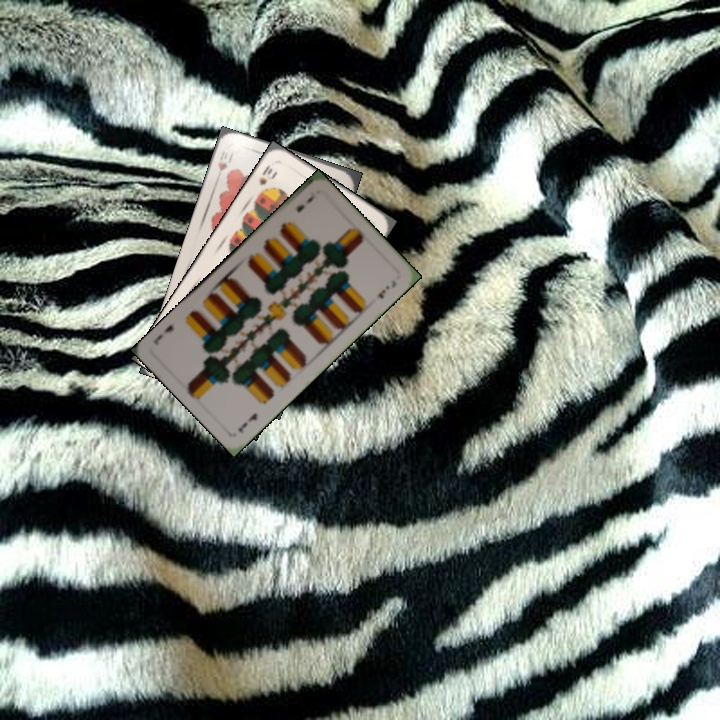E7: (292, 188, 318, 215), (234, 409, 260, 436)
H10: (213, 146, 236, 174)
S10: (255, 160, 275, 188)
